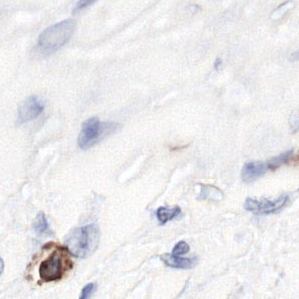Lymphocyte: (38, 242, 71, 284)
